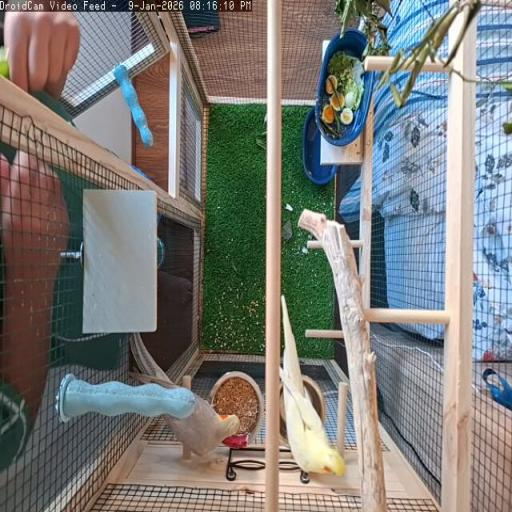bebedero: (303, 375, 326, 423), (279, 385, 287, 446)
comedero: (210, 371, 262, 448)
ninfa: (280, 295, 345, 475), (164, 394, 239, 455), (131, 335, 173, 385)
